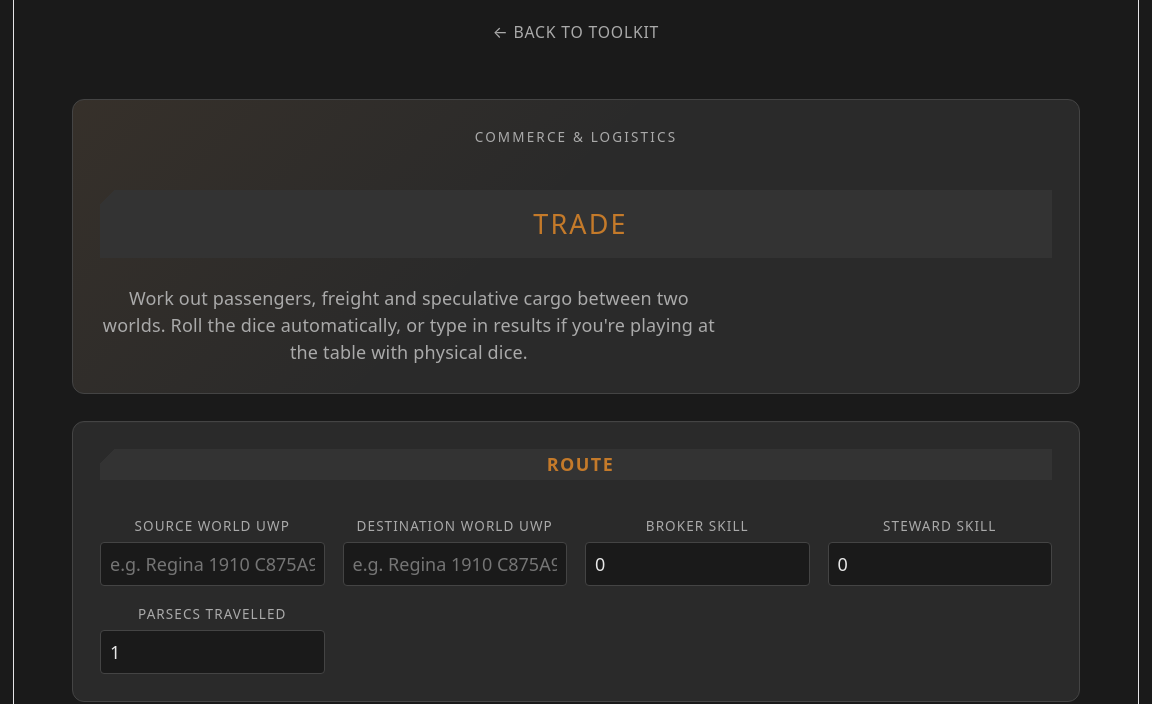
Test case: TradePage › parses a pasted UWP and shows a manual roll flow on the Passengers tab
Type "Regina 1910 C875A97-A Ri Pa Ph" into the field labelled "Source World UWP" at coordinates (212, 564), box [100,542,324,586]
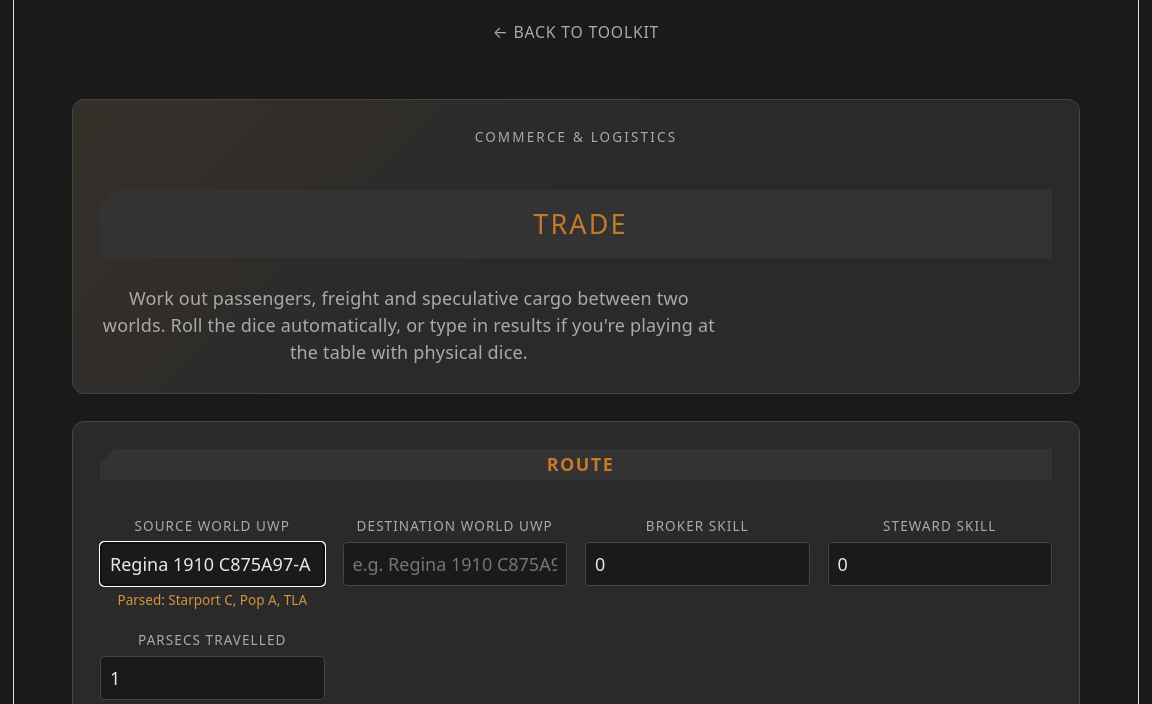
Type "Efate 1705 B564977-9 Ni Pa" into the field labelled "Destination World UWP" at coordinates (455, 564), box [342,542,567,586]
(page scrolled)
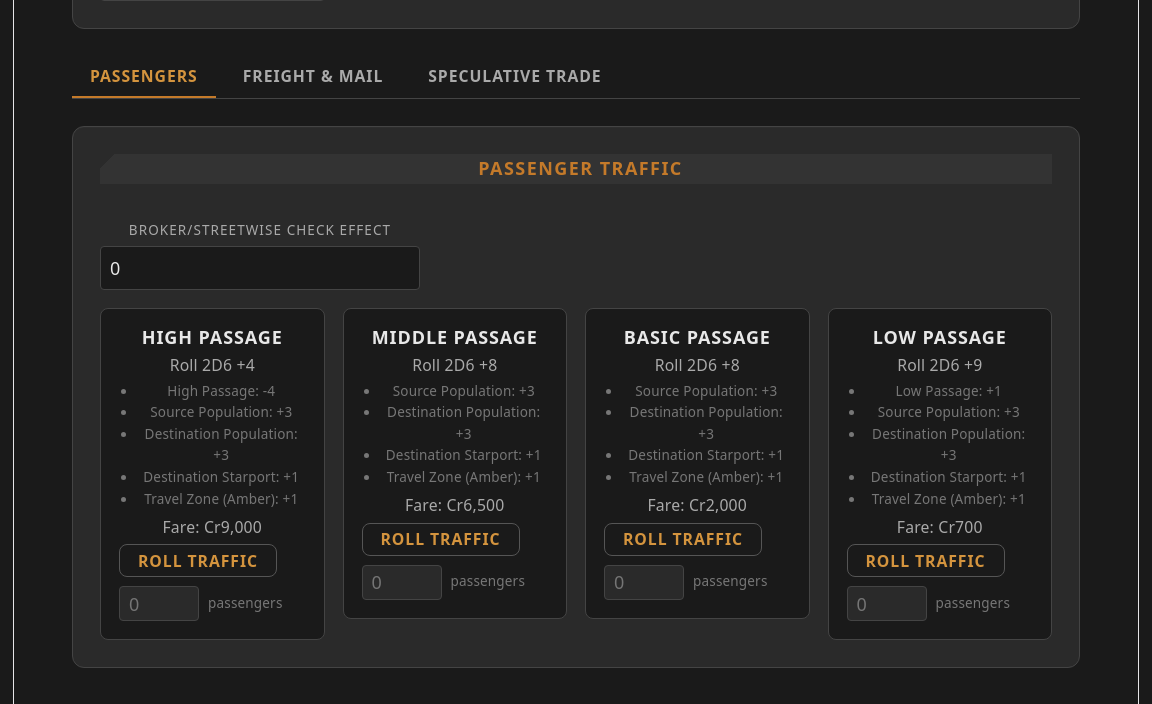
Result: the heading "Passenger Traffic" is shown at [100,154,1052,184]
Click the button "Roll Traffic" below "9,000" at coordinates (198, 561), box [119,544,277,577]
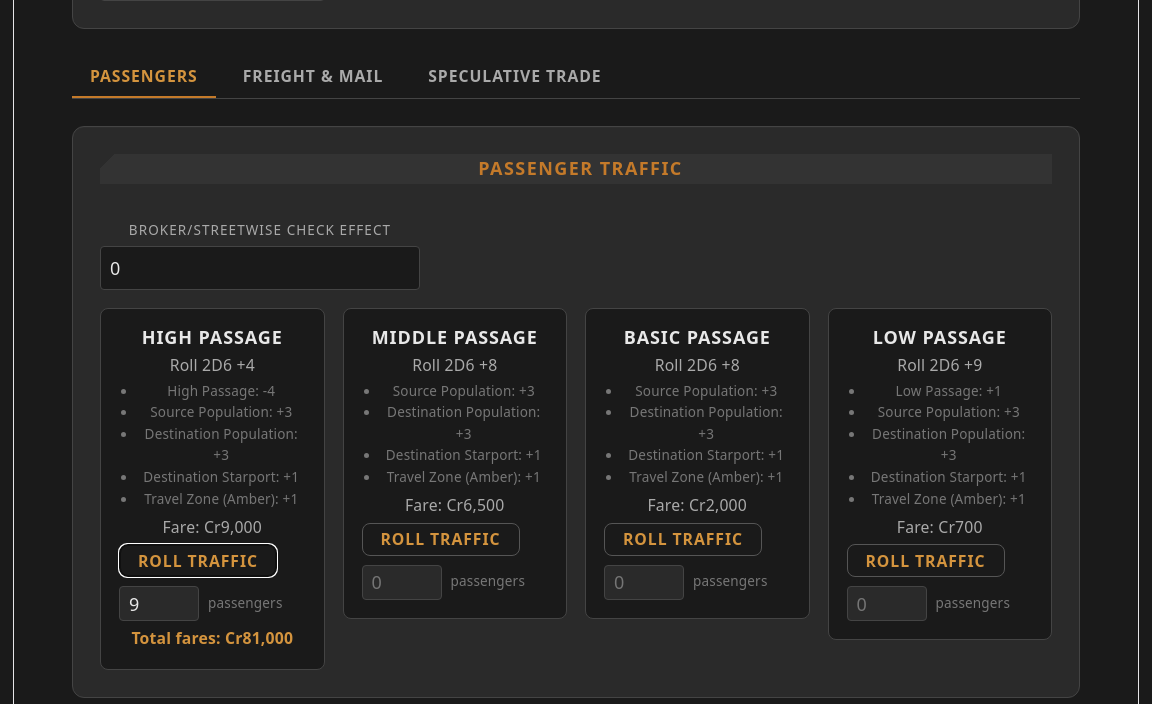
Result: the text "Total fares: Cr81,000" is shown at [119,626,306,651]
